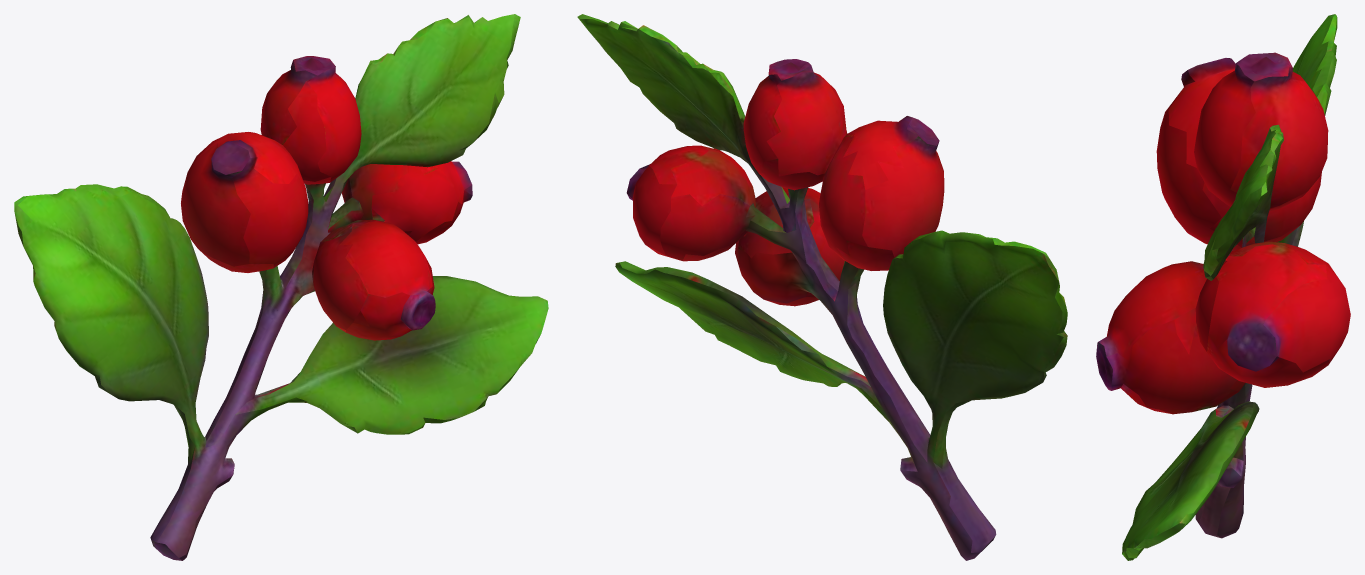
The model's file is rosehip.glb.
3 views of the same model, side by side, from view 1: azimuth 30°, elevation 25°; view 2: azimuth 150°, elevation 25°; view 3: azimuth 270°, elevation 25° (orthographic). The views are drawn at different scales.
Visible parts, largest first — view 1: rosehip; view 2: rosehip; view 3: rosehip.
Part boxes in pixels (<box>): rosehip: <box>14,14,548,560</box>; rosehip: <box>577,14,1067,560</box>; rosehip: <box>1096,14,1350,560</box>.
Size of the model in its own units: 1 by 0.9048 by 0.3599.
1 material, 1 textured.
